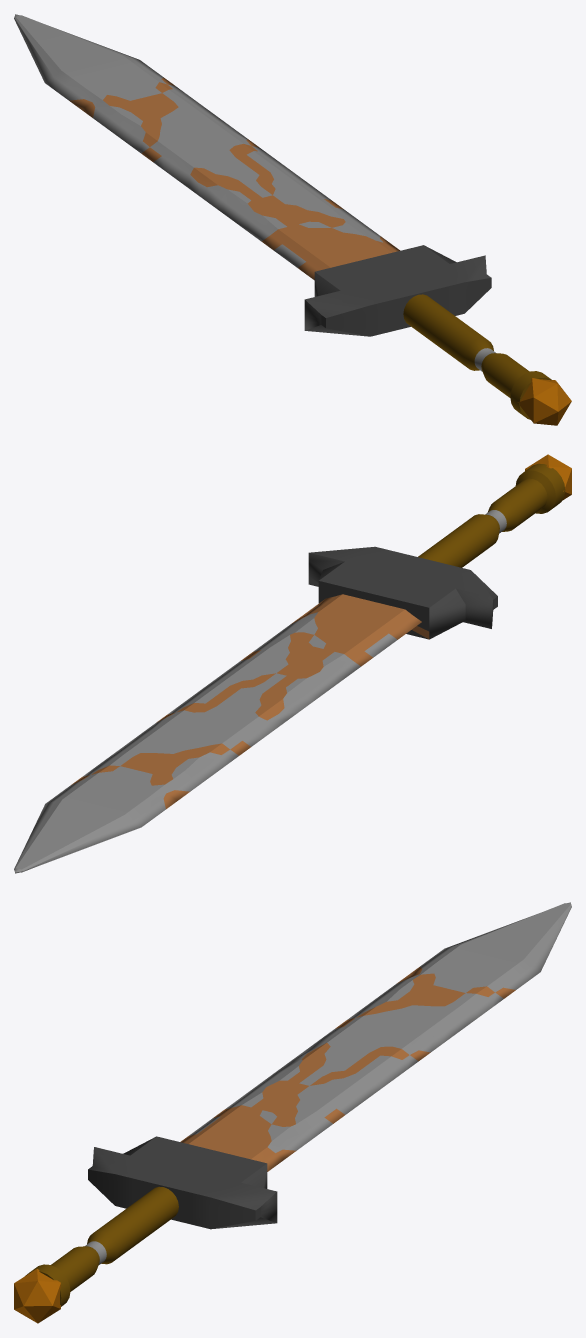
The model's file is chonky_rusted_sword.fbx.
The picture shows the model from 3 angles, top to bottom: view 1: azimuth 30°, elevation 25°; view 2: azimuth 150°, elevation 25°; view 3: azimuth 330°, elevation 25°; orthographic projection.
Parts seen in each view (by area): view 1: polySurface291; view 2: polySurface291; view 3: polySurface291.
Part boxes in pixels (box(x1,y1,x2,y2)): polySurface291: box(14, 14, 571, 425); polySurface291: box(14, 454, 571, 873); polySurface291: box(14, 902, 571, 1323).
Bounding box in the file's own units: 74.57 × 16.66 × 387.
